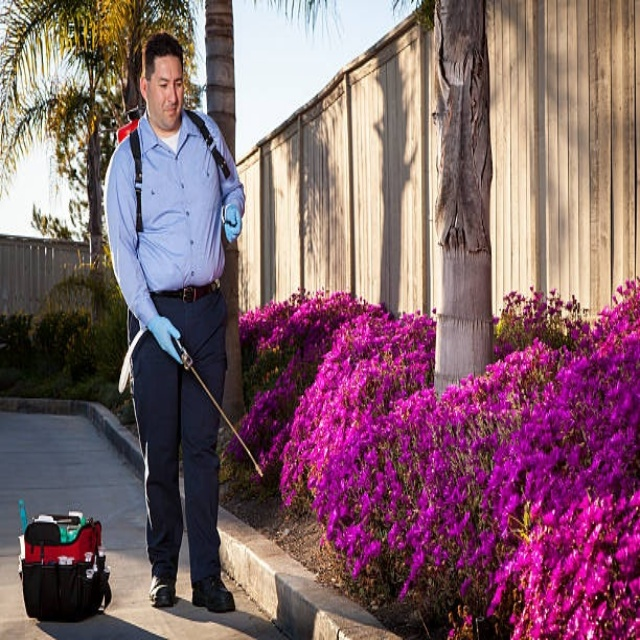Guantes: (147, 314, 184, 364), (223, 203, 241, 244)
Sin_gafas: (151, 66, 186, 91)
Sin_mascara: (160, 102, 183, 124)
